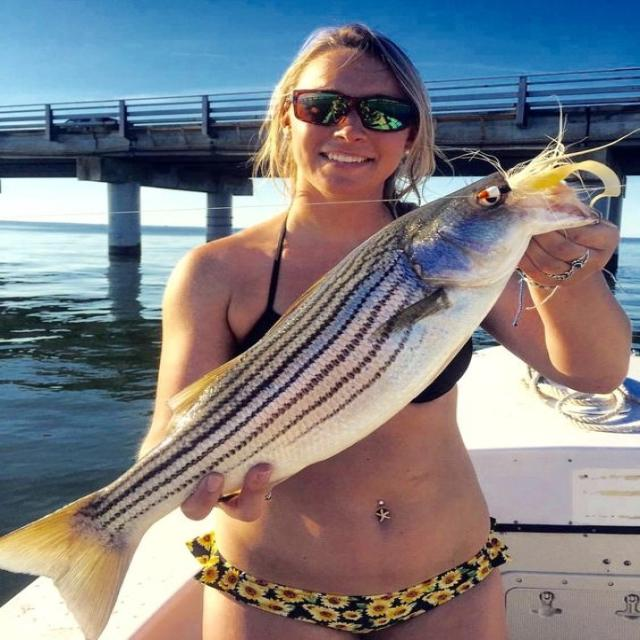Bass - Striped: (0, 128, 620, 639)
